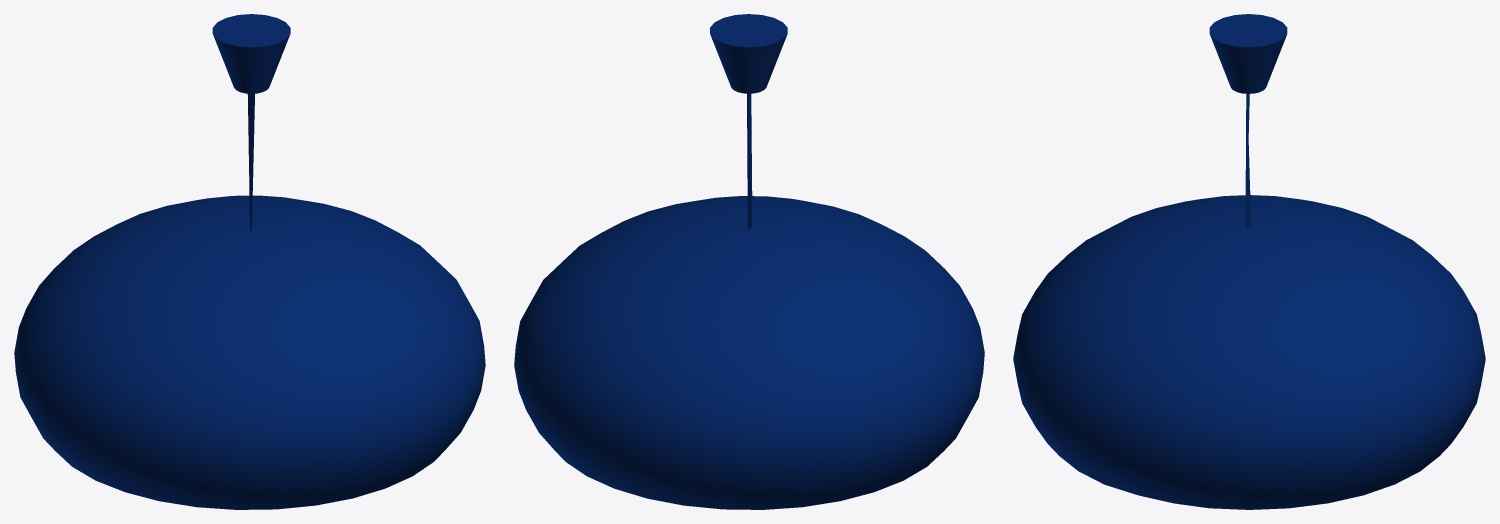
The model's file is Ceiling lamp.FBX.
3 views of the same model, side by side, from view 1: azimuth 30°, elevation 25°; view 2: azimuth 150°, elevation 25°; view 3: azimuth 270°, elevation 25° (orthographic).
Parts seen in each view (by area): view 1: Ceiling lamp; view 2: Ceiling lamp; view 3: Ceiling lamp.
Boxes of the visible parts, x1,y1,x2,y2 form: Ceiling lamp: [14, 14, 485, 509]; Ceiling lamp: [514, 14, 984, 509]; Ceiling lamp: [1013, 14, 1485, 509].
Bounding box in the file's own units: 23.48 × 21.55 × 23.48.
